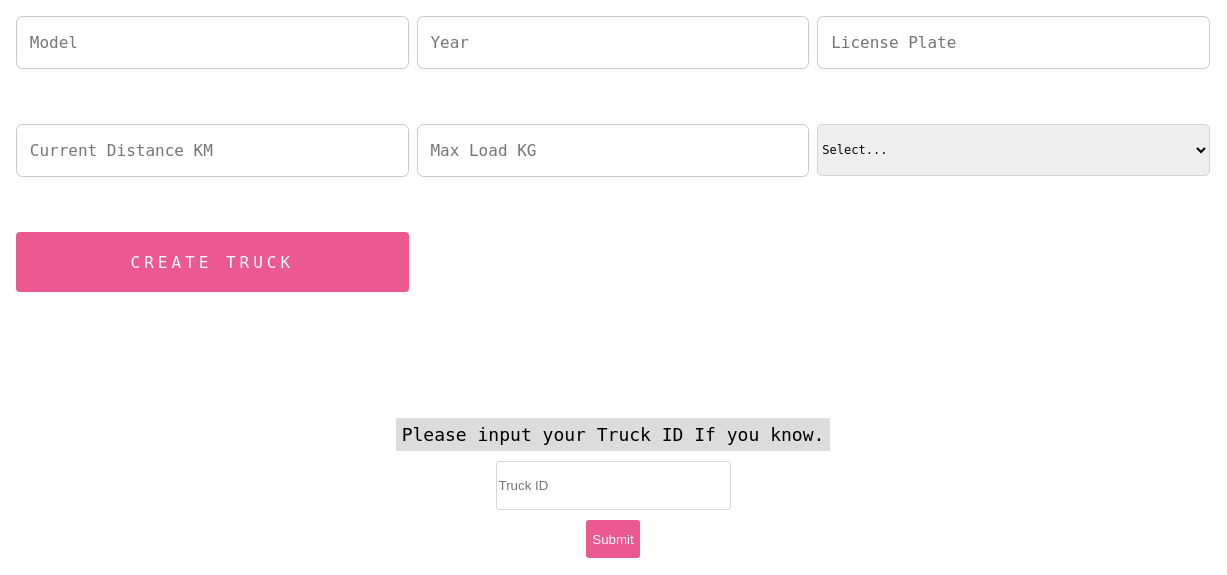
Test: Testing the /truck/create page › It should check the model and LicensePlate input value to be false for invalid value having length greater than 10
The image size is (1227, 575).
In the field with test id "model": (212, 42) left=16, top=16, right=409, bottom=69, type "01234567891111111"
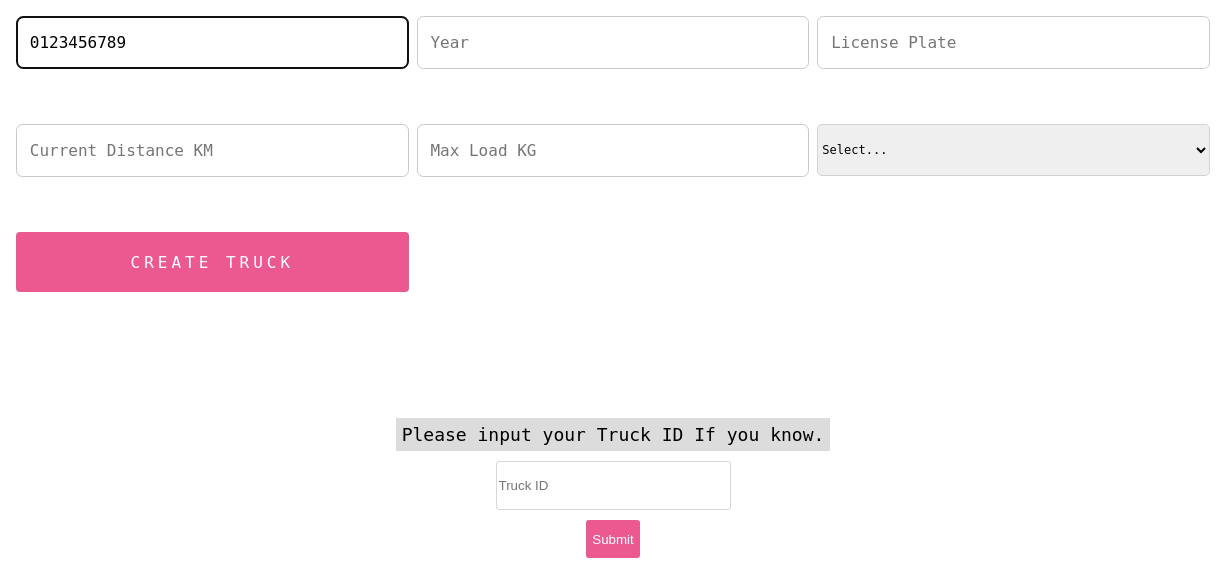
expect the field with test id "model" does not hold "01234567891111111": met, box left=16, top=16, right=409, bottom=69
expect the field with test id "model" holds "0123456789": met, box left=16, top=16, right=409, bottom=69
In the field with test id "licensePlate": (1014, 42) left=817, top=16, right=1210, bottom=69, type "01234567891111111"
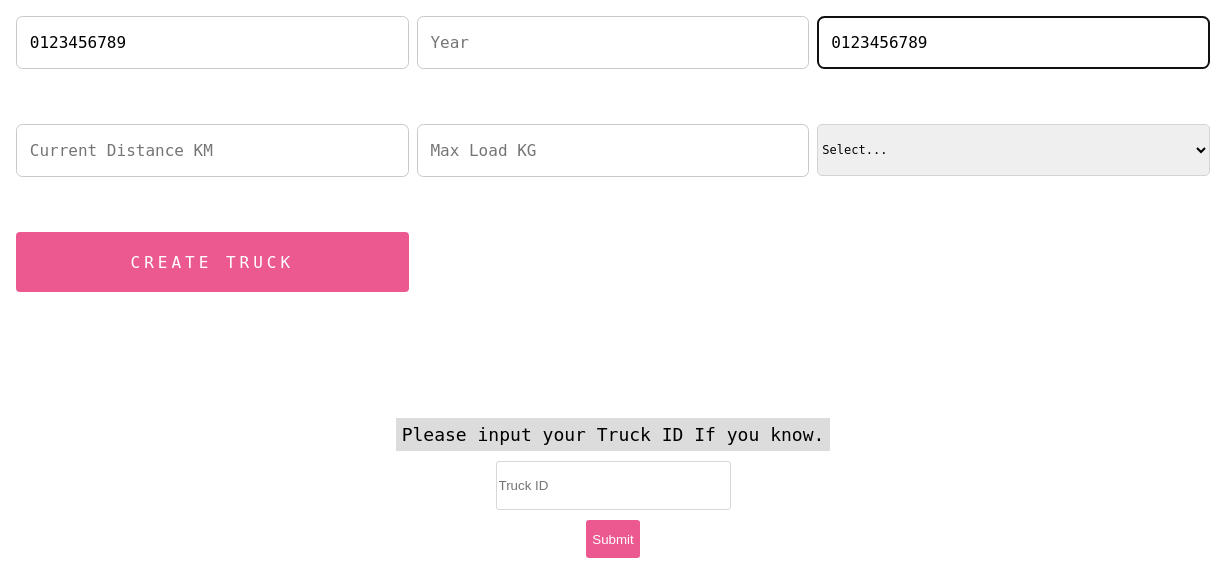
expect the field with test id "licensePlate" does not hold "01234567891111111": met, box left=817, top=16, right=1210, bottom=69
expect the field with test id "licensePlate" holds "0123456789": met, box left=817, top=16, right=1210, bottom=69
